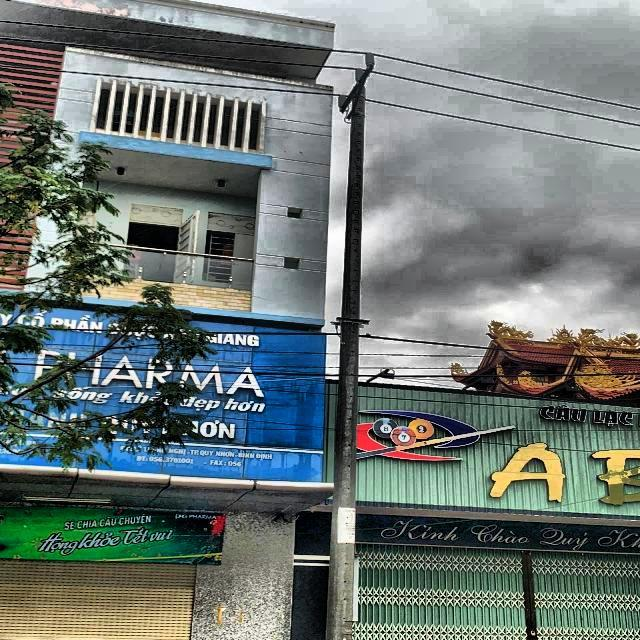pole: (325, 84, 365, 639)
wire: (0, 63, 640, 155), (0, 20, 640, 110), (0, 40, 639, 127)
